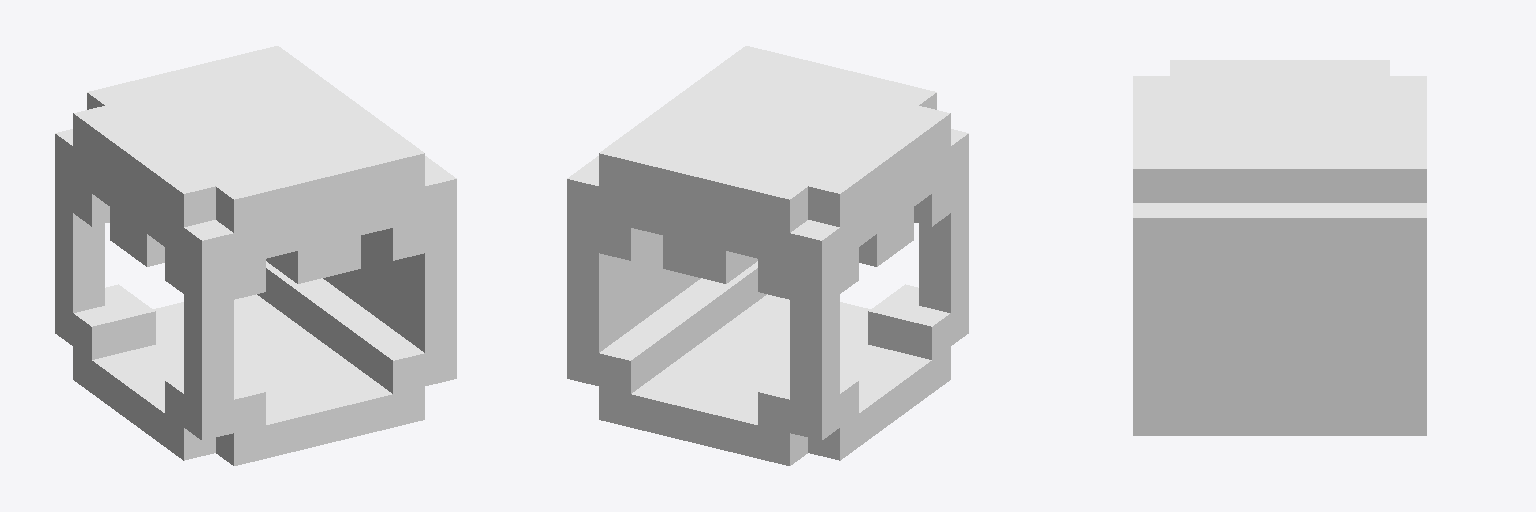
File: Corridor_T.obj
3 renders of one model, left to right at view 1: azimuth 30°, elevation 25°; view 2: azimuth 150°, elevation 25°; view 3: azimuth 270°, elevation 25°, orthographic.
Visible parts, largest first — view 1: object 1; view 2: object 1; view 3: object 1.
Boxes of the visible parts, box(x1,y1,x2,y2) form: object 1: box(55, 46, 456, 465); object 1: box(567, 46, 968, 465); object 1: box(1133, 60, 1426, 435).
Bounding box in the file's own units: 0.8 × 0.8 × 0.8.